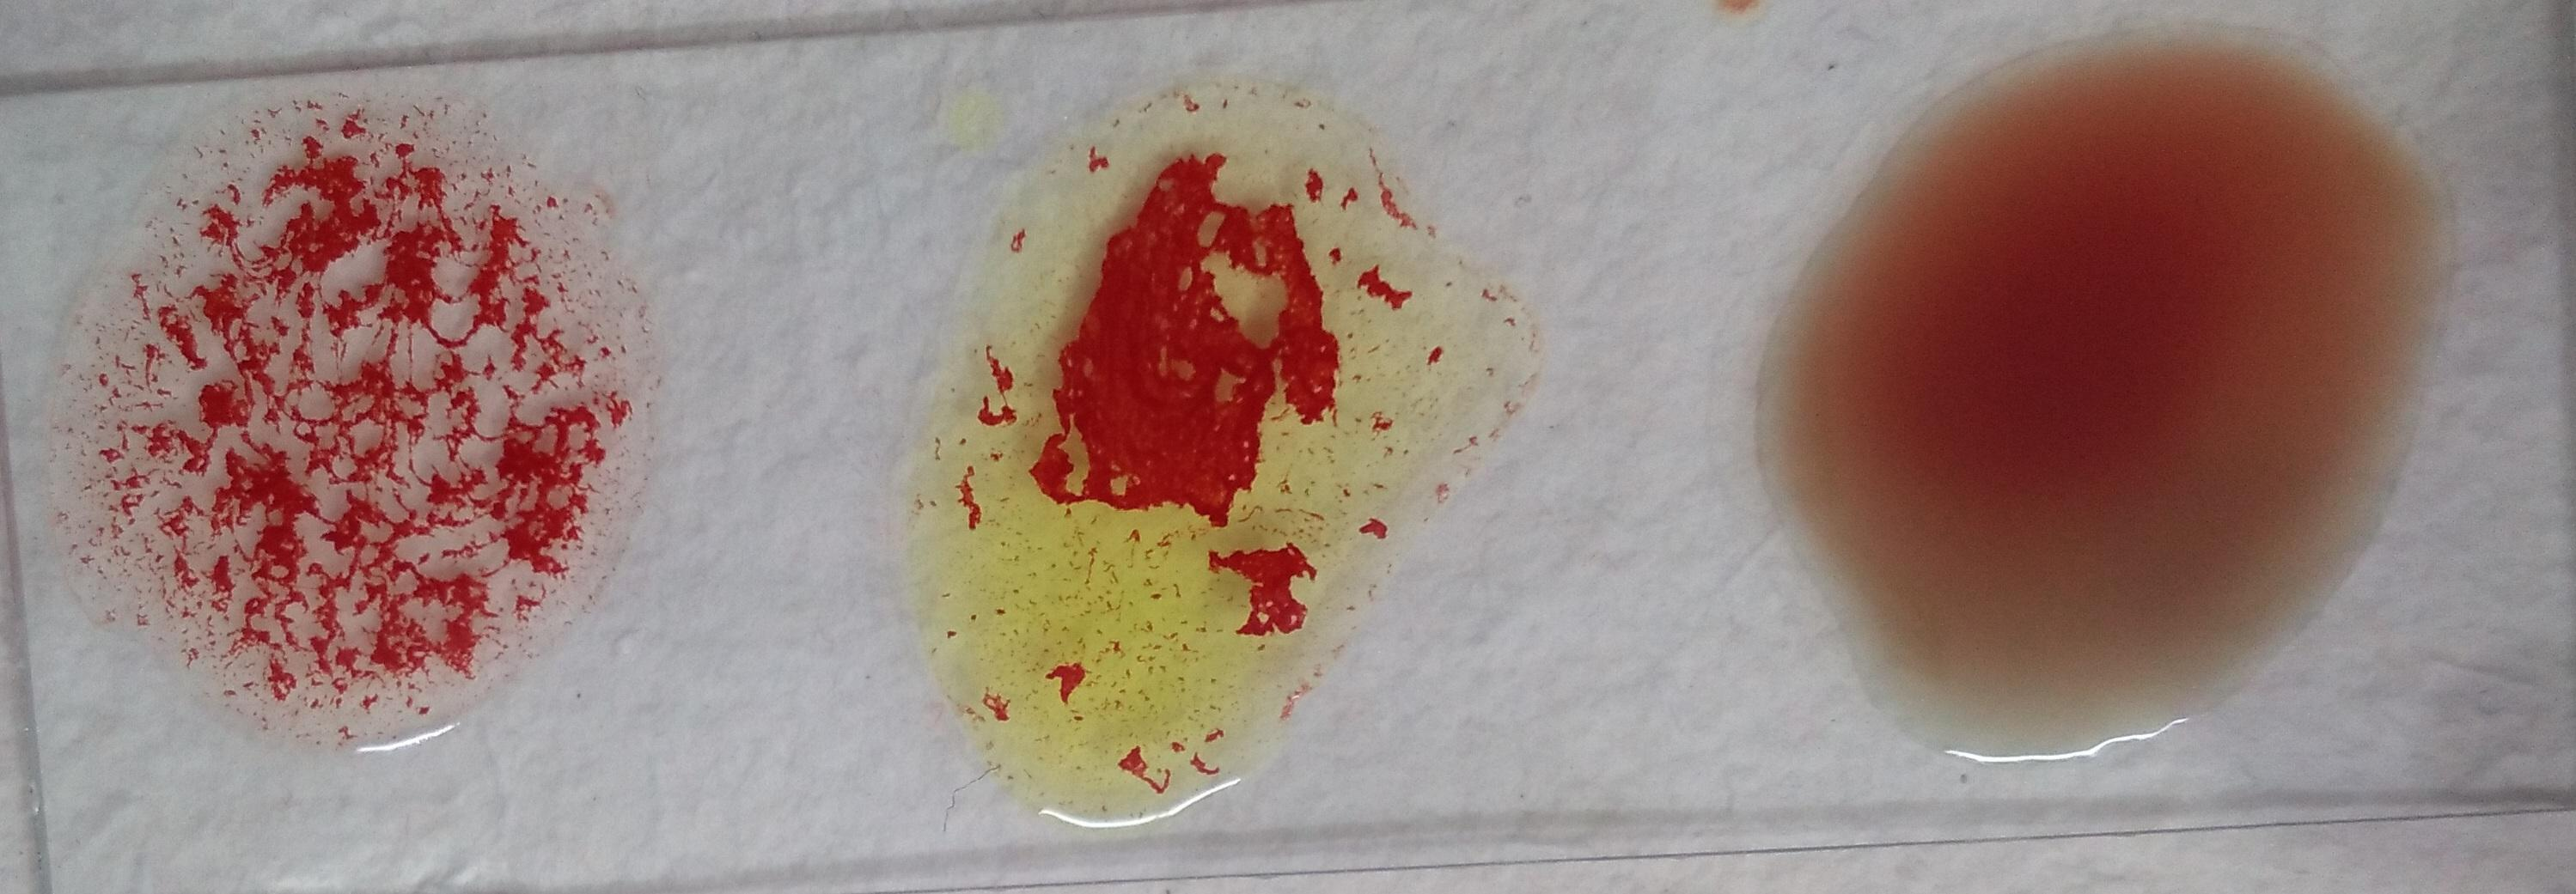B: (899, 84, 1482, 838)
D: (82, 97, 603, 743)
